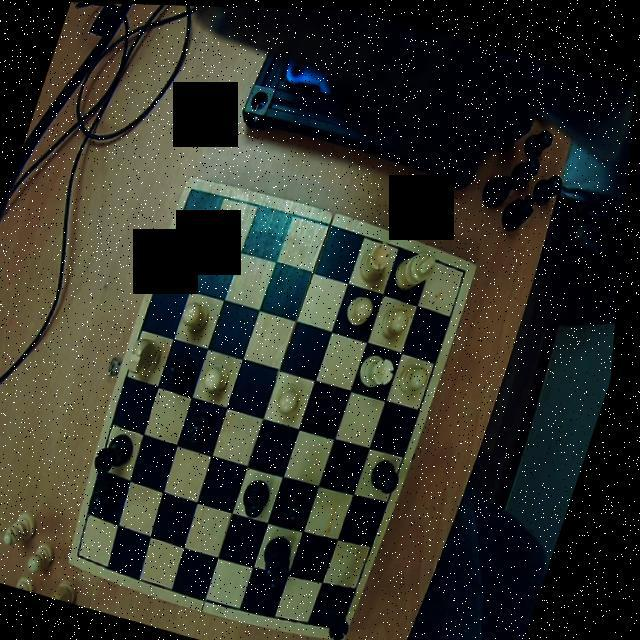chess-table-corners: (184, 178, 212, 208), (452, 254, 480, 281), (78, 542, 104, 570), (340, 608, 362, 640)
